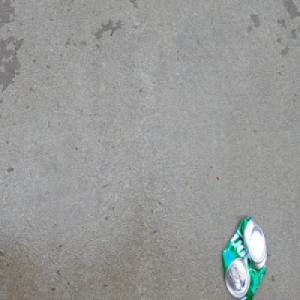SodaCan: (220, 213, 268, 300)
